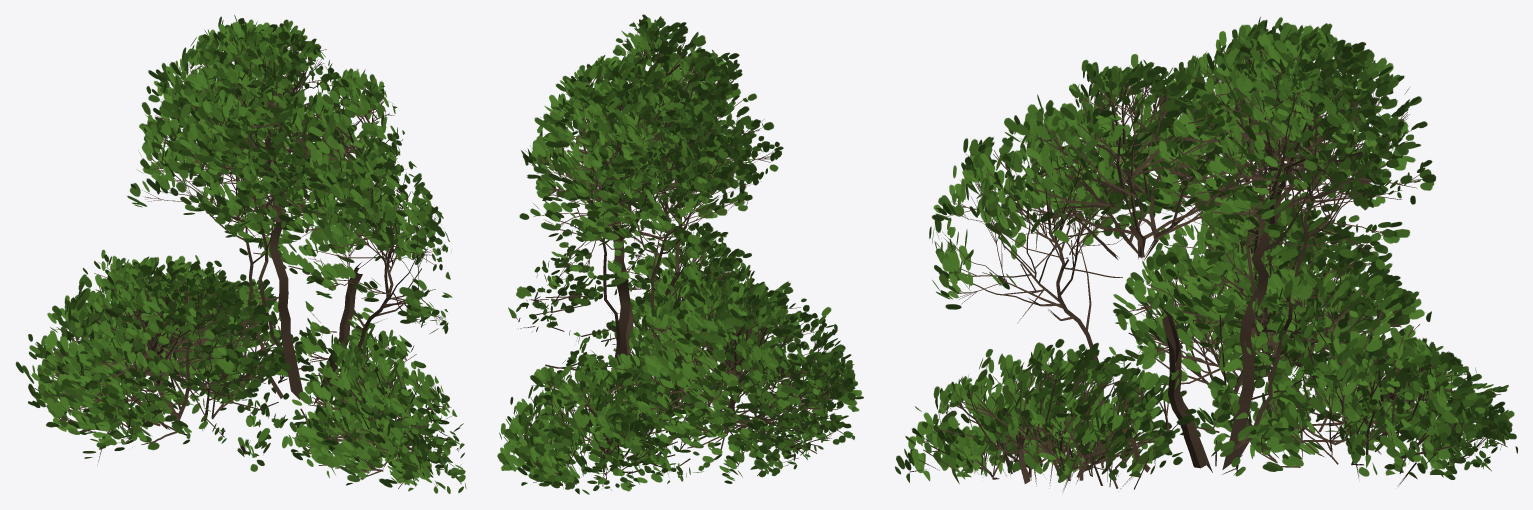
3 renders of one model, left to right at view 1: azimuth 30°, elevation 25°; view 2: azimuth 150°, elevation 25°; view 3: azimuth 270°, elevation 25°, orthographic. The views are drawn at different scales.
Parts seen in each view (by area): view 1: oak 01.001_trunk_Mat.001_0.189; view 2: oak 01.001_trunk_Mat.001_0.189; view 3: oak 01.001_trunk_Mat.001_0.189.
Boxes of the visible parts, box(x1,y1,x2,y2) form: oak 01.001_trunk_Mat.001_0.189: box(15, 15, 466, 493); oak 01.001_trunk_Mat.001_0.189: box(497, 14, 863, 494); oak 01.001_trunk_Mat.001_0.189: box(895, 16, 1517, 491).
Size of the model in its own units: 3.45 by 4.25 by 5.34.
2 materials, 1 textured.
